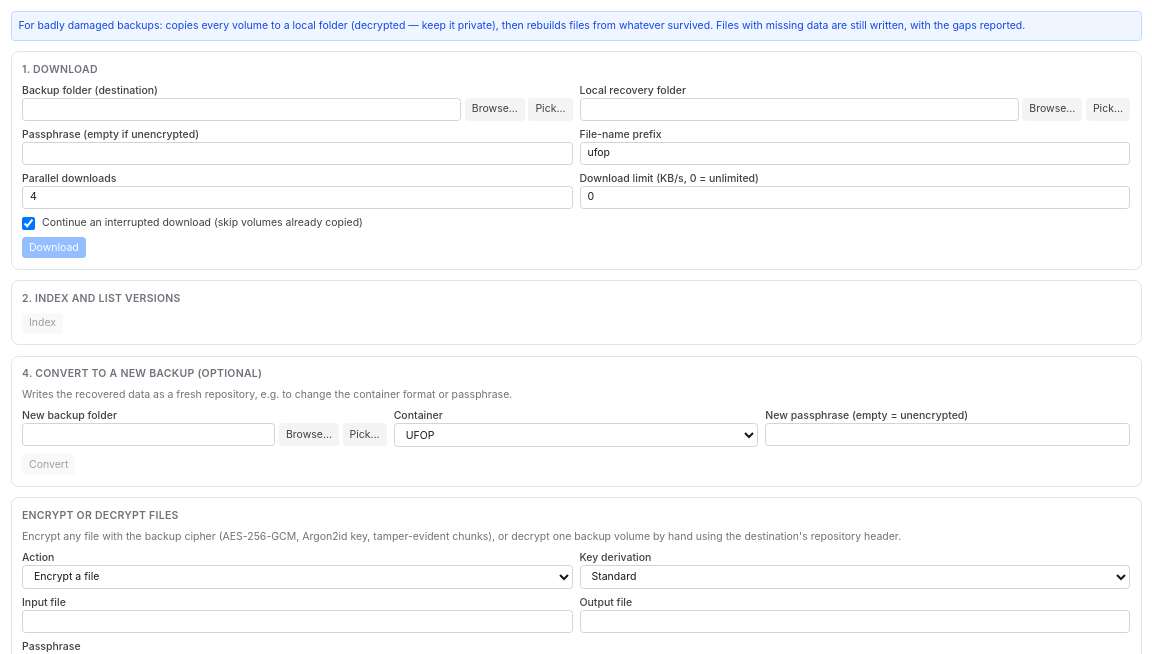
recovery tool › downloads, indexes, lists and restores
Step 1. Type "/mnt/b" into the field with test id "recovery-source" → (242, 109), box [22,98,461,120]
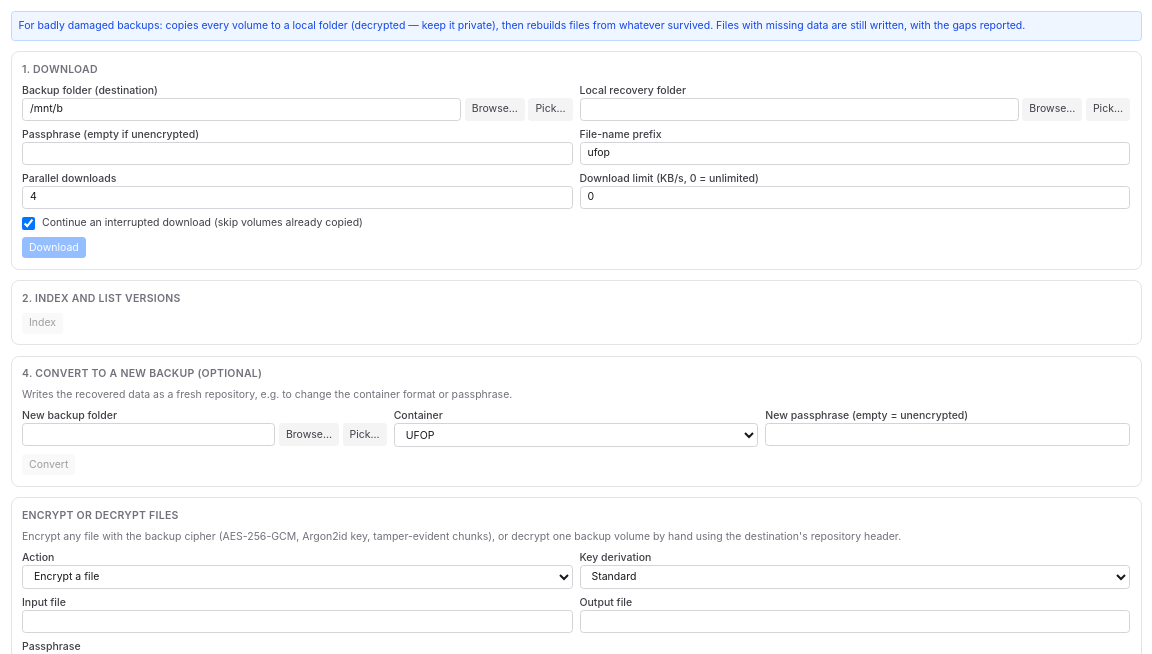
Step 2. Type "/tmp/rec" into the field with test id "recovery-folder" → (799, 109), box [580,98,1019,120]
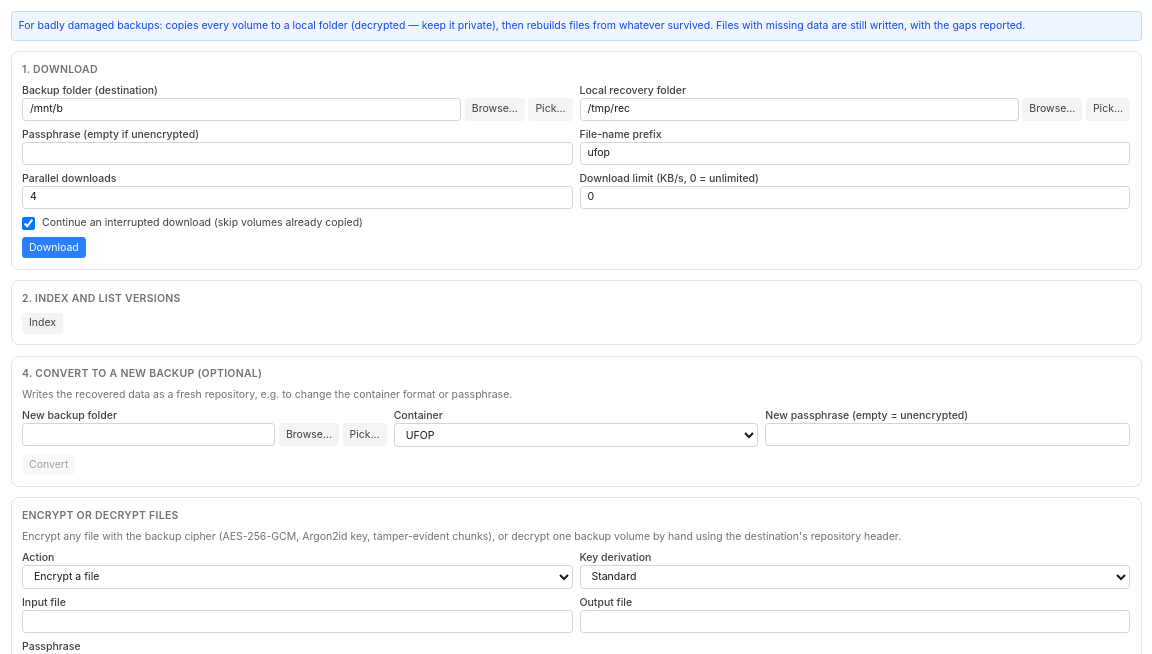
Step 3. Click the button with test id "recovery-download" → (54, 248), box [22,237,86,258]
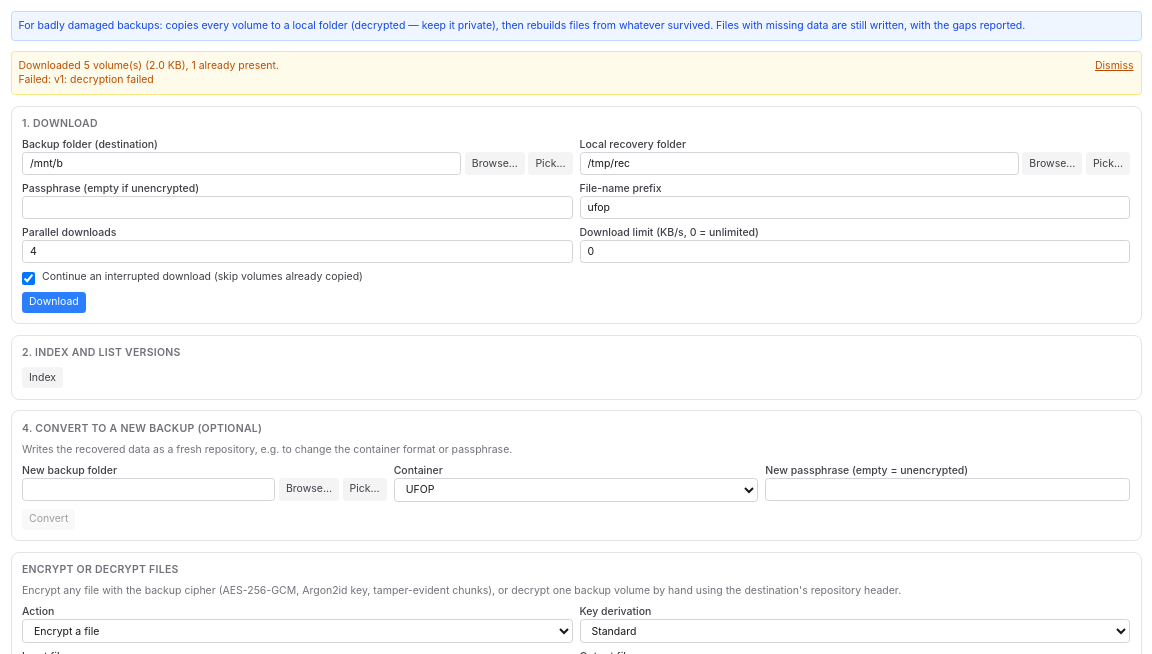
expect the text "Downloaded 5 volume(s) (2.0 KB), 1 already present." is shown: met, box [18,59,279,73]
expect the text "Failed: v1: decryption failed" is shown: met, box [18,73,154,86]
Step 4. Click the button with test id "recovery-index" → (43, 378), box [22,367,63,388]
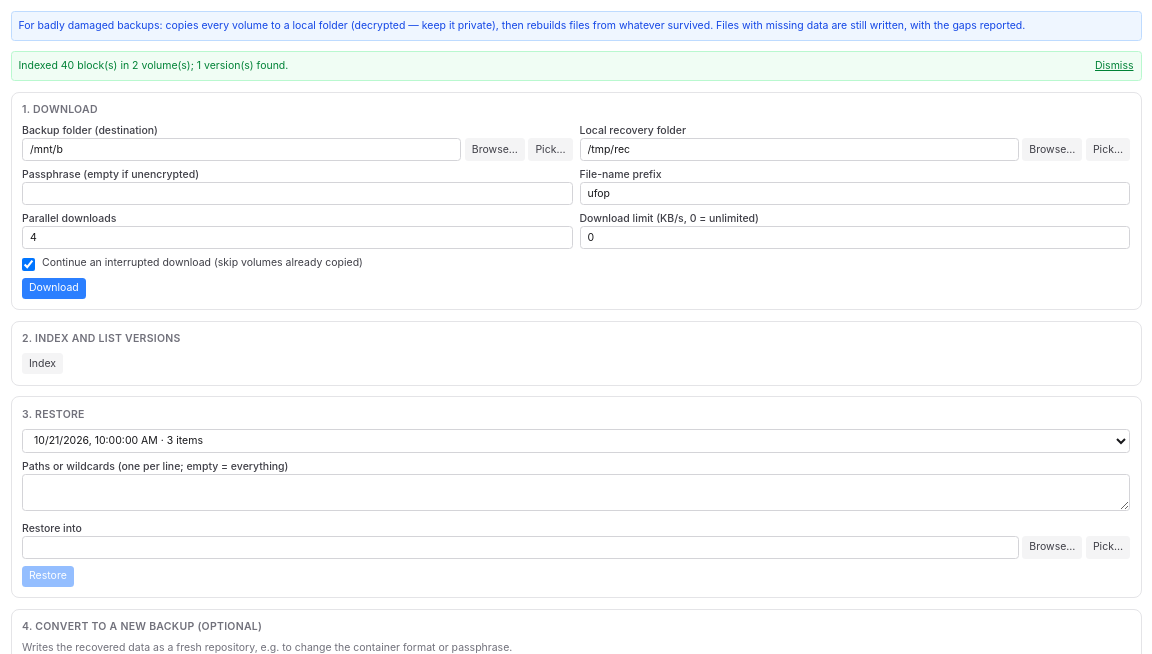
expect the text "Indexed 40 block(s) in 2 volume(s); 1 version(s) found." is shown: met, box [18,59,288,73]
Step 5. Type "/tmp/out" into the field with test id "recovery-target" → (520, 547), box [22,536,1019,559]
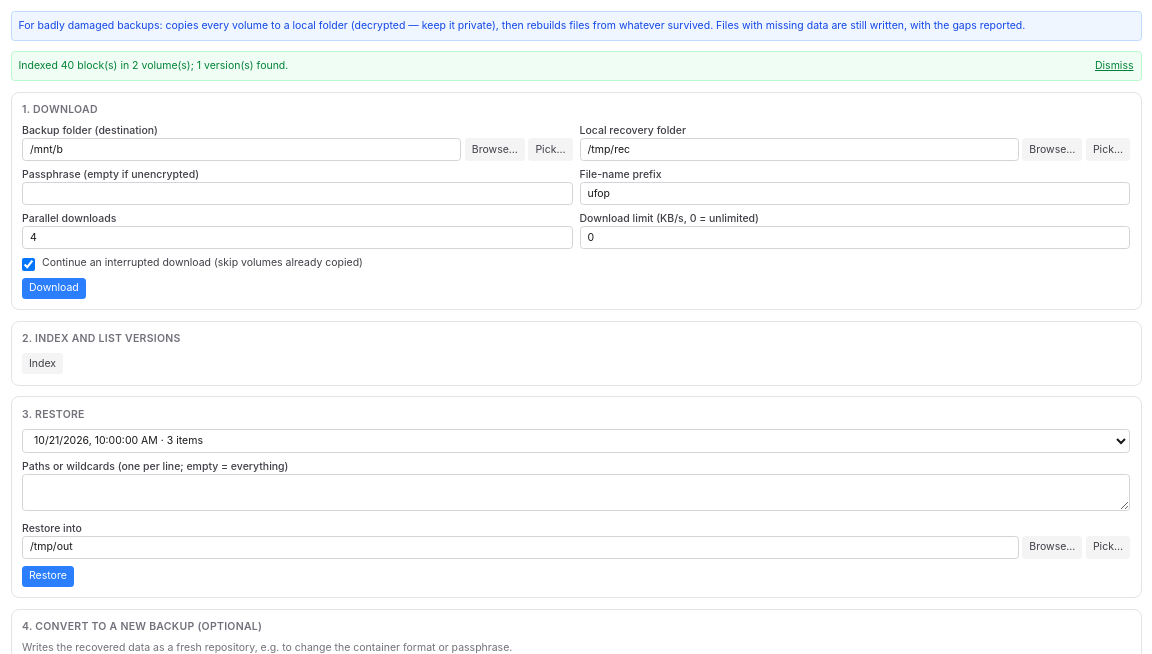
Step 6. Click the button with test id "recovery-restore" → (48, 576), box [22,566,74,587]
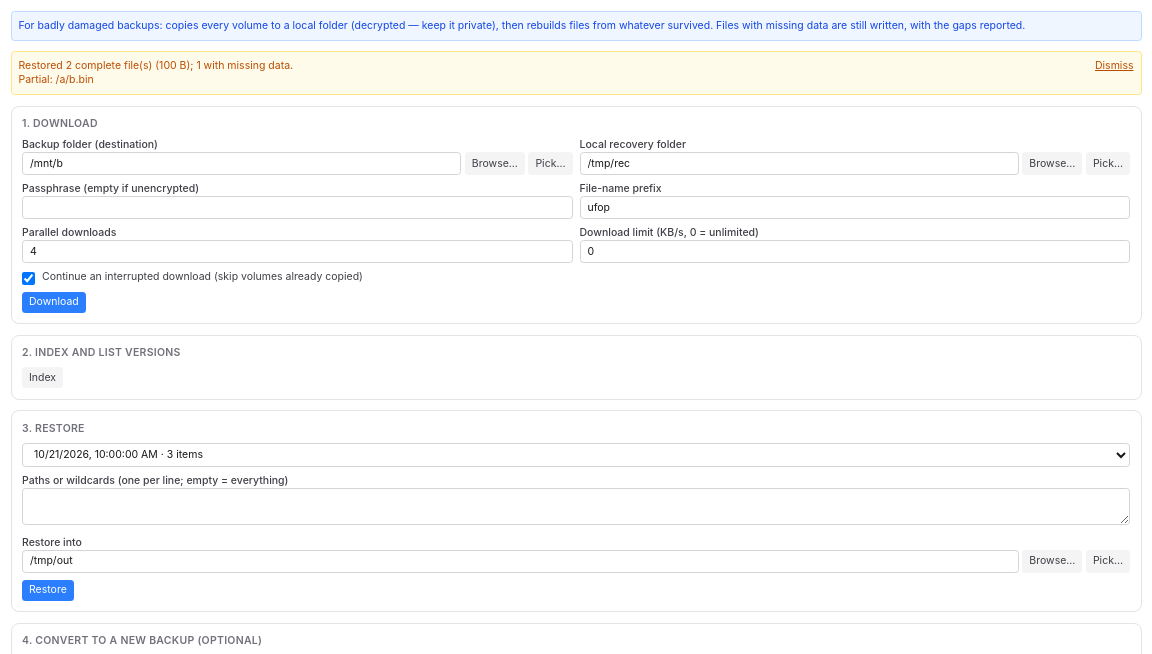
expect the text "Partial: /a/b.bin" is shown: met, box [18,73,94,86]
